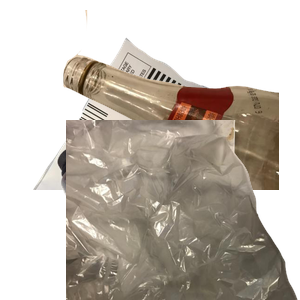glass: (60, 10, 300, 190)
paper: (31, 35, 271, 215)
plastic: (54, 136, 209, 300)
trash: (66, 120, 300, 300)
